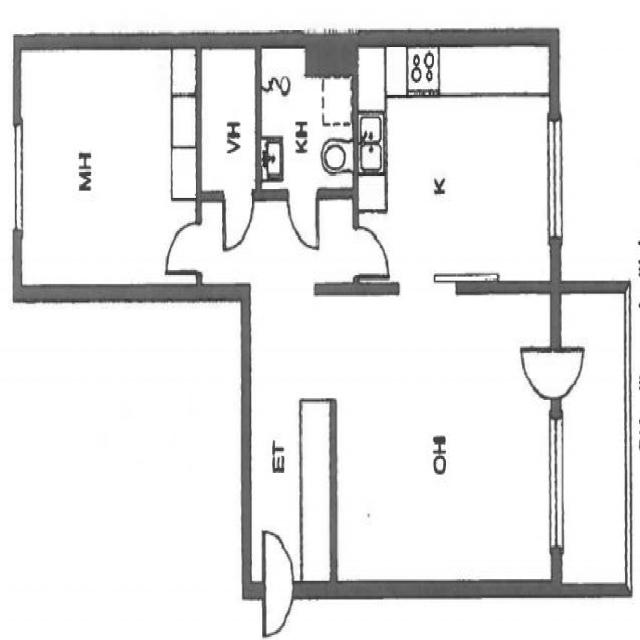door: (263, 531, 293, 597), (521, 349, 560, 399), (551, 349, 590, 399), (166, 223, 201, 274), (353, 226, 388, 277), (288, 190, 318, 249), (224, 190, 252, 248)
